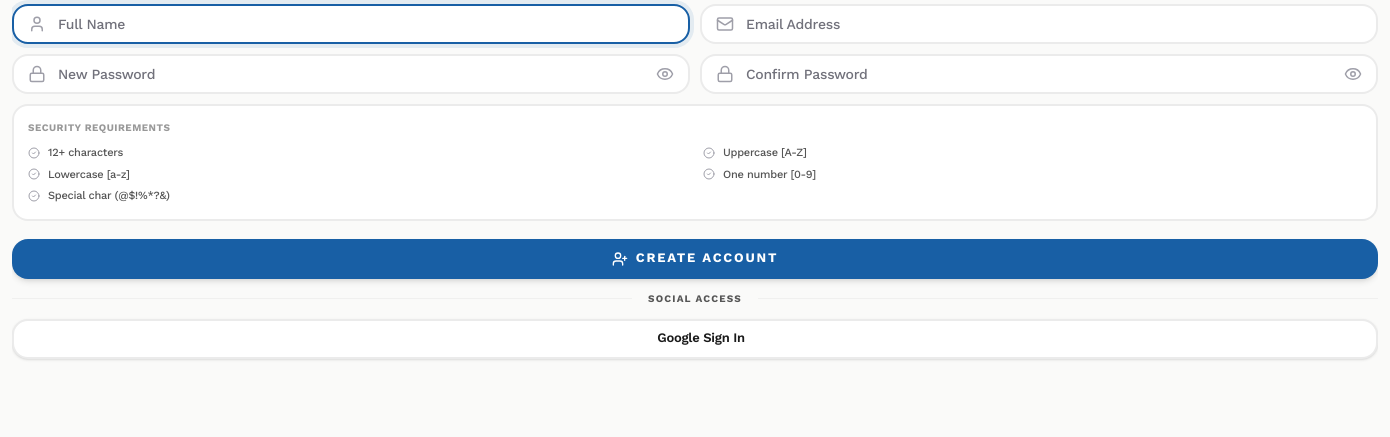
Test case: SignUp Component › shows error if password does not meet requirements
The width and height of the screenshot is (1390, 437).
Type "Test User" into the field labelled "Full Name" at x=351, y=24, box x1=12 y1=4 x2=690 y2=44
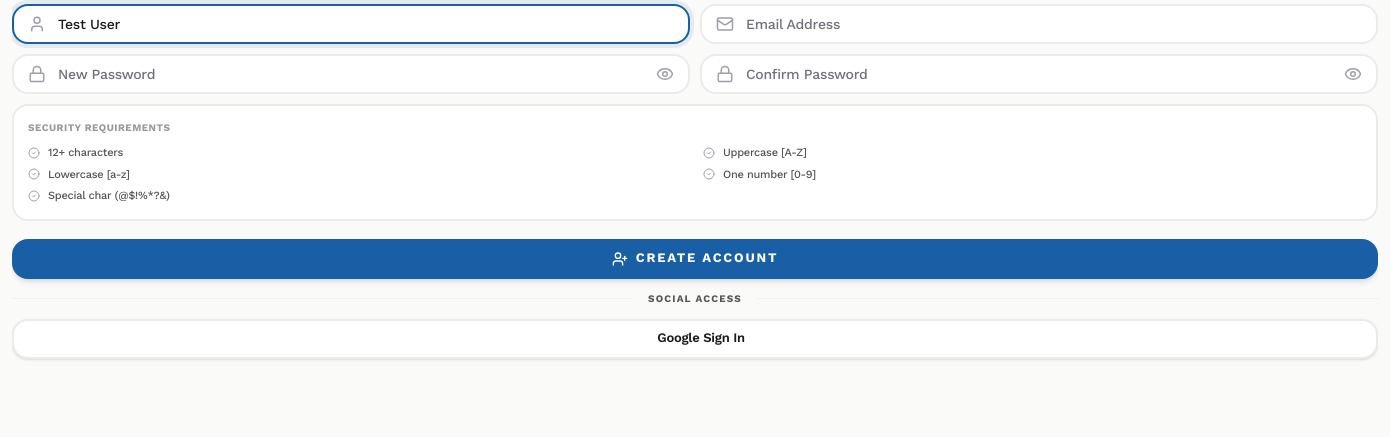
Type "test@example.com" into the field labelled "Email Address" at x=1039, y=24, box x1=700 y1=4 x2=1378 y2=44
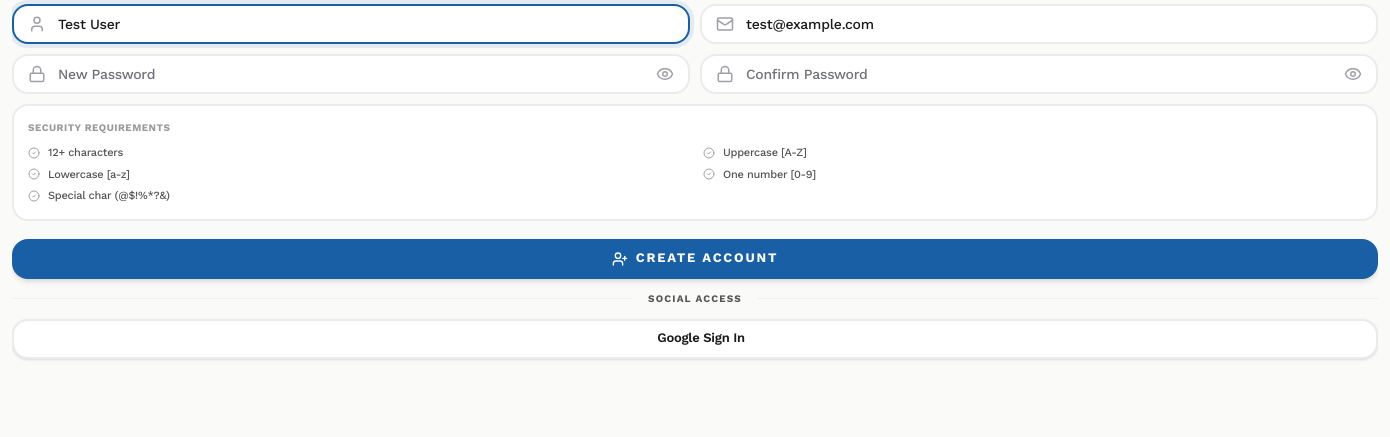
// This password matches but is too weak
Type "weak" into the password field labelled "New Password" at x=351, y=74, box x1=12 y1=54 x2=690 y2=94
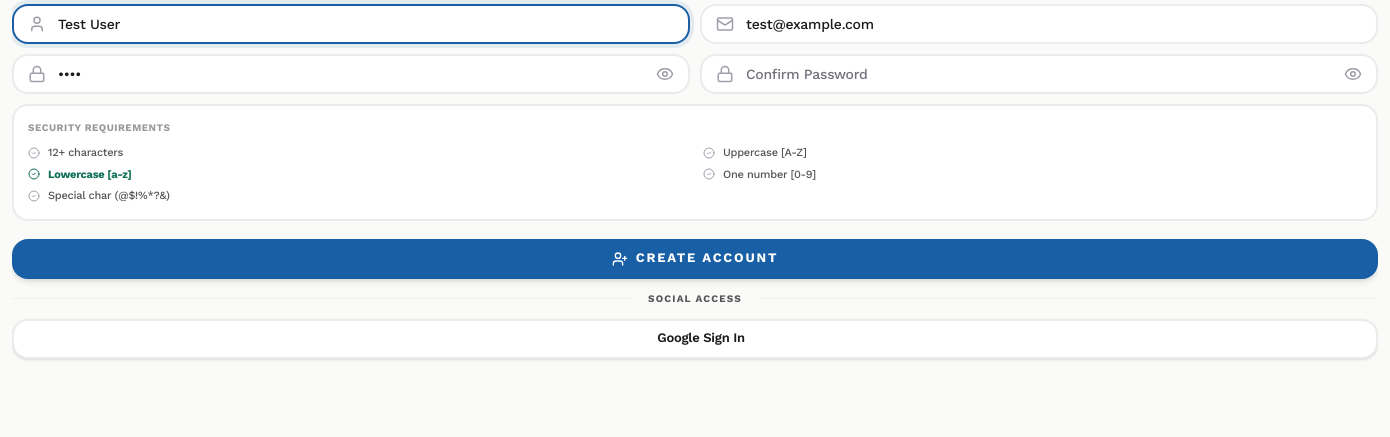
Type "weak" into the password field labelled "Confirm Password" at x=1039, y=74, box x1=700 y1=54 x2=1378 y2=94
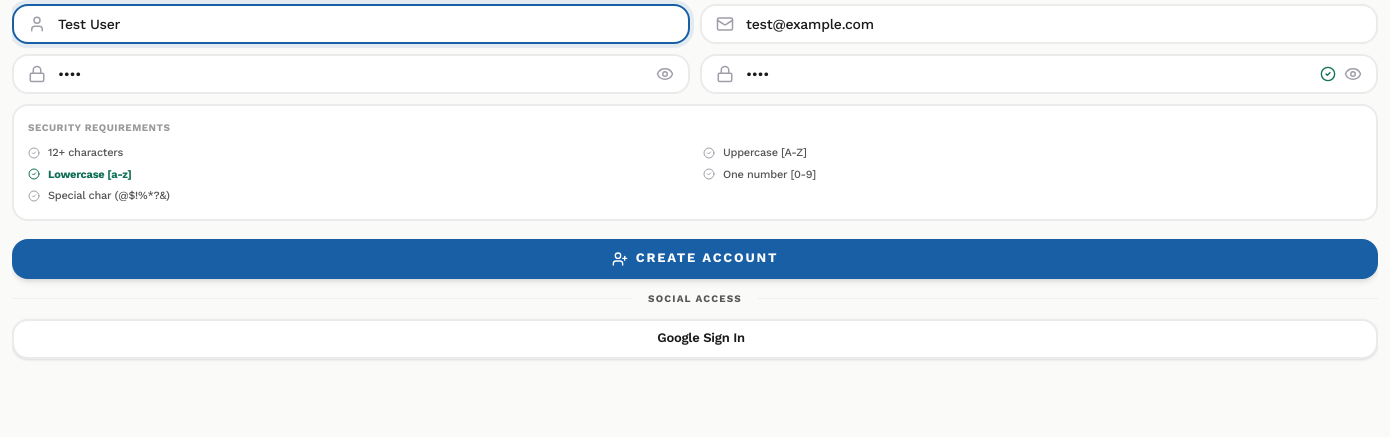
Click the button "Create Account" at x=695, y=259, box x1=12 y1=239 x2=1378 y2=279
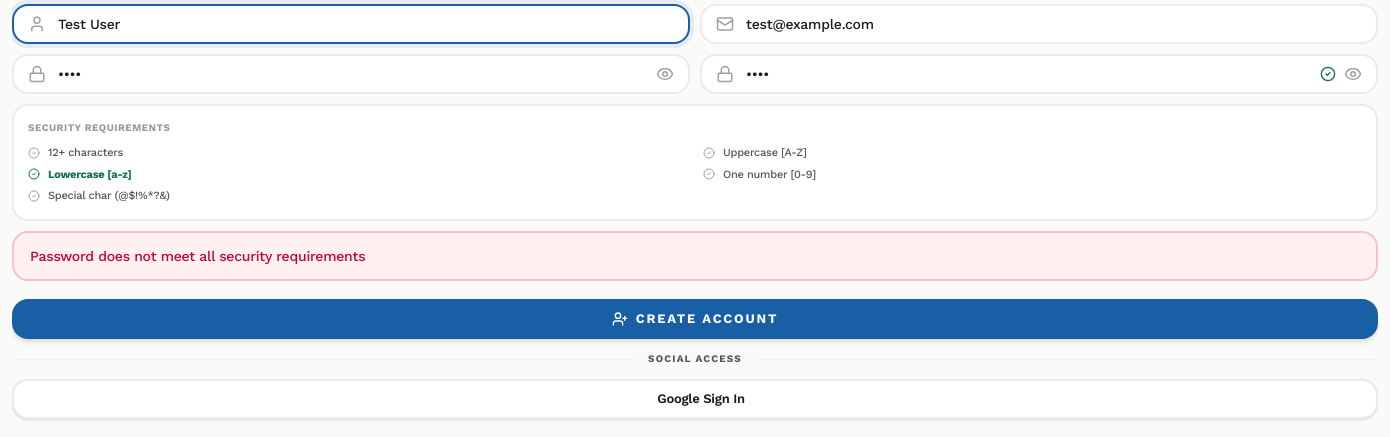
Check: the text "Password does not meet all security requirements" is shown, box x1=12 y1=231 x2=1378 y2=281
